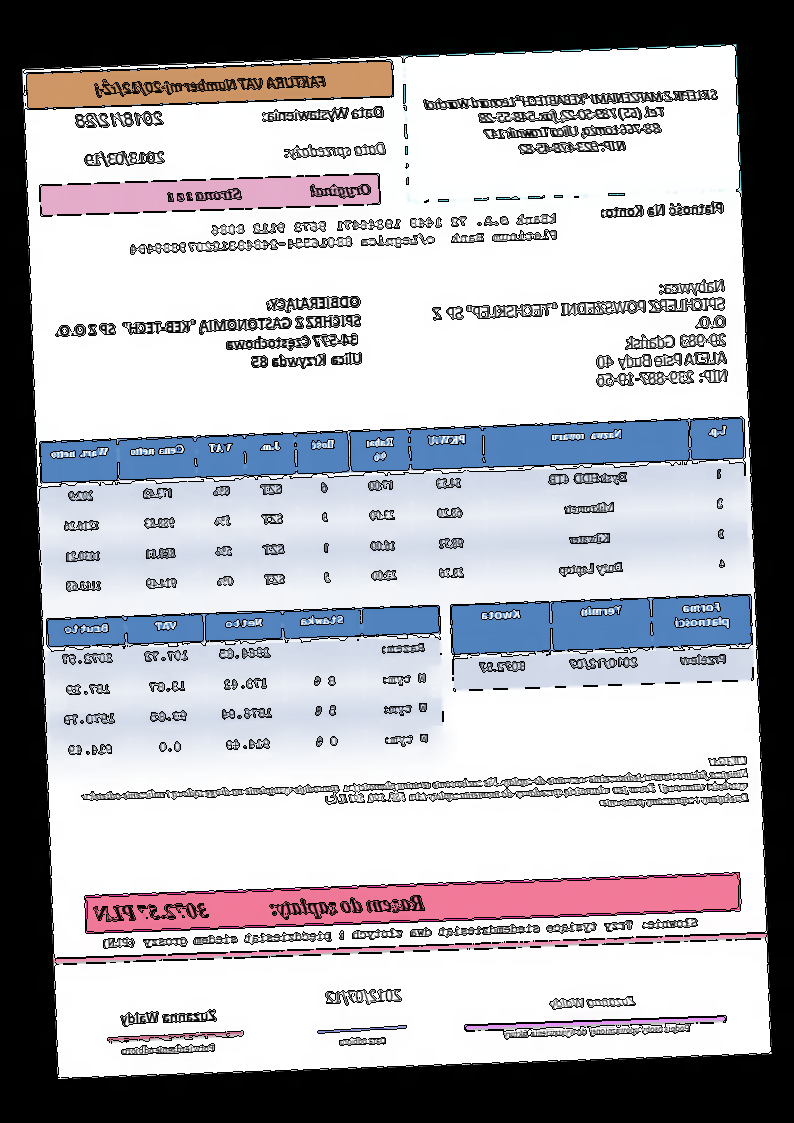Table: (37, 413, 752, 609), (44, 602, 447, 771), (449, 591, 755, 692)
TextBox: (77, 752, 751, 829), (429, 276, 730, 396), (52, 292, 367, 379), (419, 85, 722, 162), (100, 914, 701, 951), (126, 209, 561, 258), (90, 889, 429, 927), (91, 72, 328, 99), (164, 179, 374, 208), (500, 1019, 694, 1042), (259, 100, 387, 127), (280, 137, 391, 163), (597, 199, 726, 221), (73, 107, 166, 134), (117, 1004, 220, 1028), (119, 1037, 217, 1060), (546, 990, 640, 1012), (324, 984, 407, 1008), (82, 148, 169, 169), (337, 1031, 390, 1050)
